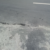zebra: (1, 6, 29, 24)
